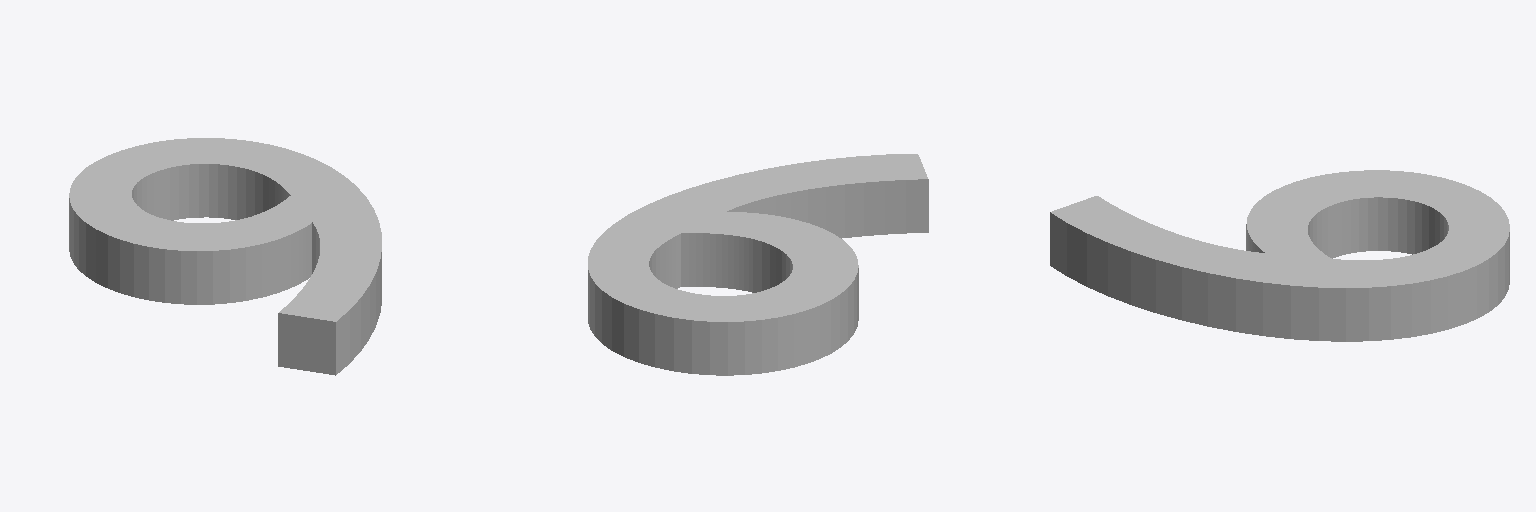
File: nine.obj
The picture shows the model from 3 angles: view 1: azimuth 30°, elevation 25°; view 2: azimuth 150°, elevation 25°; view 3: azimuth 270°, elevation 25°; orthographic projection.
Parts seen in each view (by area): view 1: Text.009; view 2: Text.009; view 3: Text.009.
Part boxes in pixels (x1,y1,x2,y2): Text.009: (69,138,381,375); Text.009: (588,154,928,375); Text.009: (1050,170,1509,341).
Bounding box in the file's own units: 0.425 × 0.09 × 0.7.